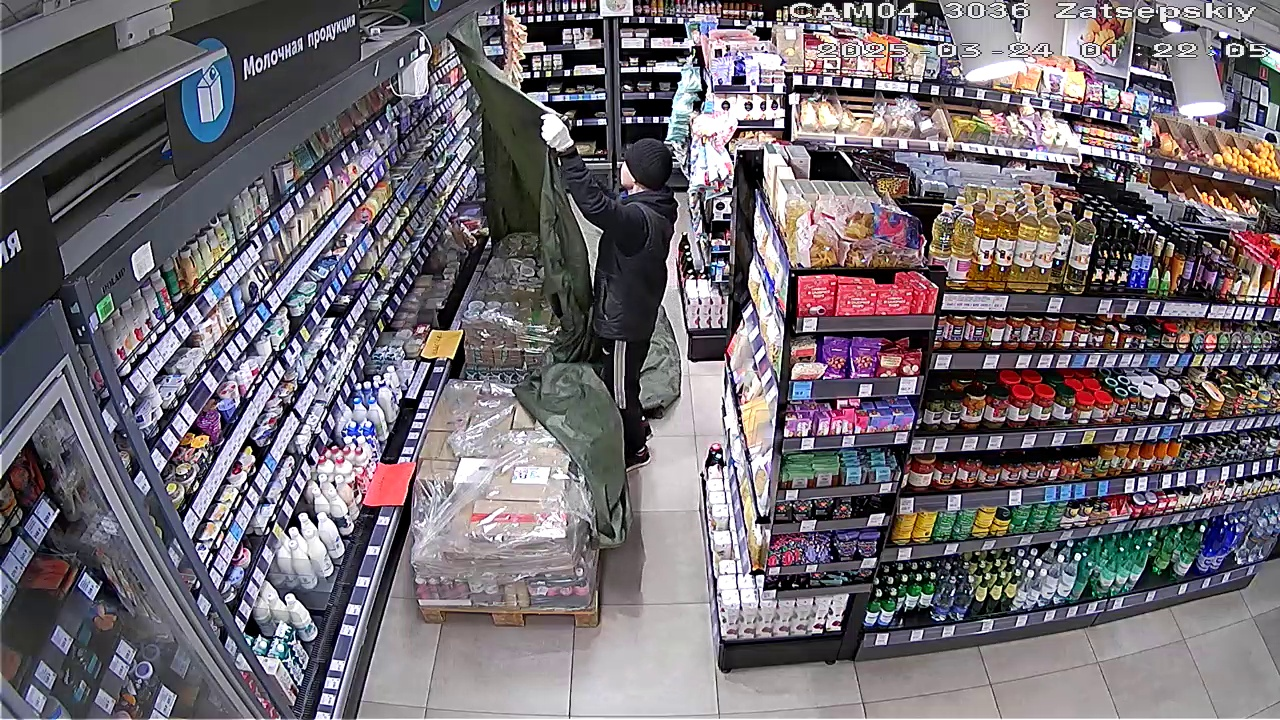Human: (535, 82, 679, 453)
pallet: (434, 379, 602, 611), (471, 222, 552, 353)
